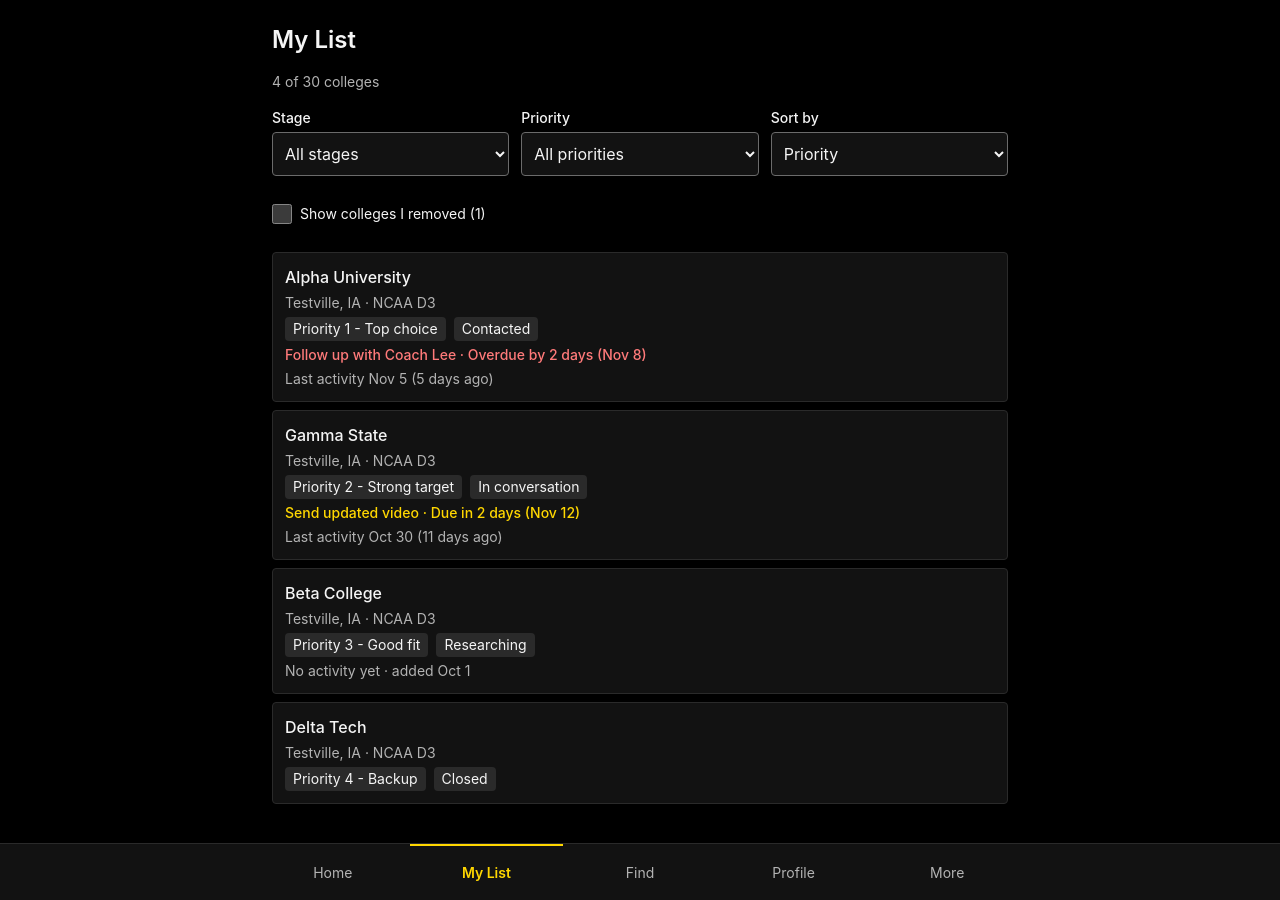
Test: My List › opens a college
Click the link "Alpha University": (348, 277) [272,252,1008,402]
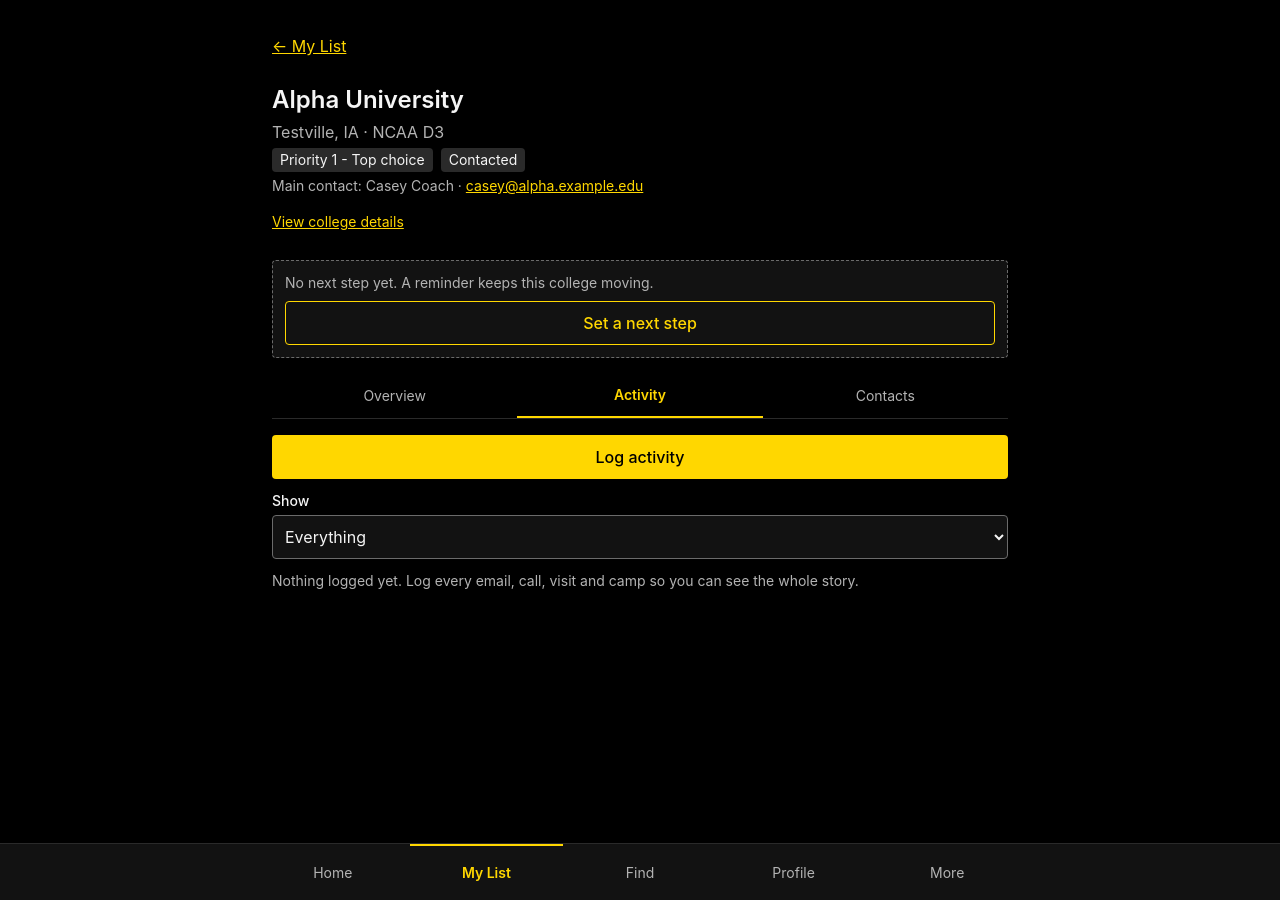
Now the heading "Alpha University" is shown, box [272,85,464,114]
